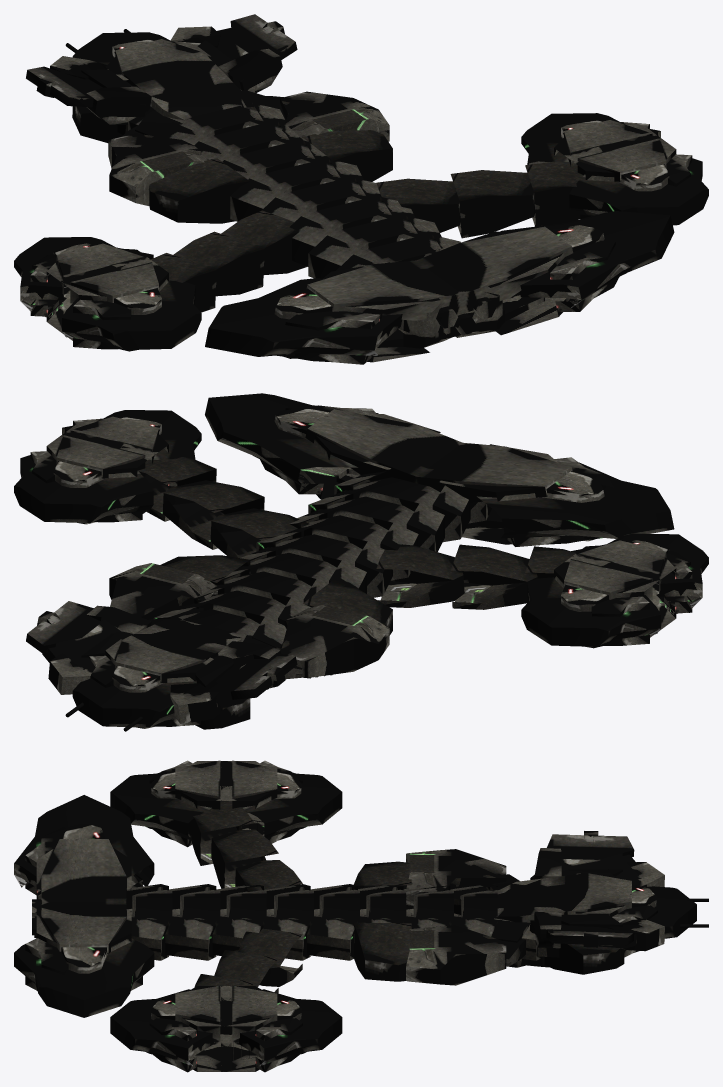
Rendered from Behemoth.fbx.
3 views of the same model, one above another, from view 1: azimuth 30°, elevation 25°; view 2: azimuth 150°, elevation 25°; view 3: azimuth 270°, elevation 25° (orthographic). The views are drawn at different scales.
Parts seen in each view (by area): view 1: Behemoth; view 2: Behemoth; view 3: Behemoth.
Part boxes in pixels (x1,y1,x2,y2): Behemoth: (14, 14, 708, 364); Behemoth: (14, 393, 708, 731); Behemoth: (14, 760, 708, 1072).
Size of the model in its own units: 1587 by 184 by 1638.
1 material, 1 textured.
